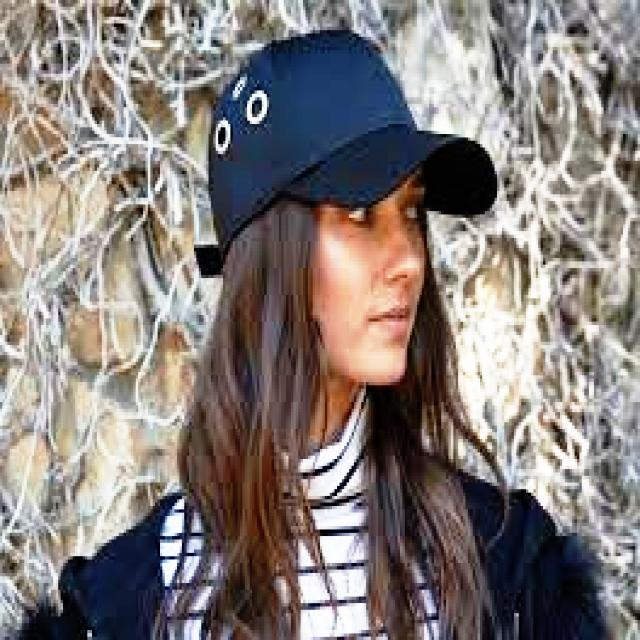TOPI: (193, 10, 515, 271)
